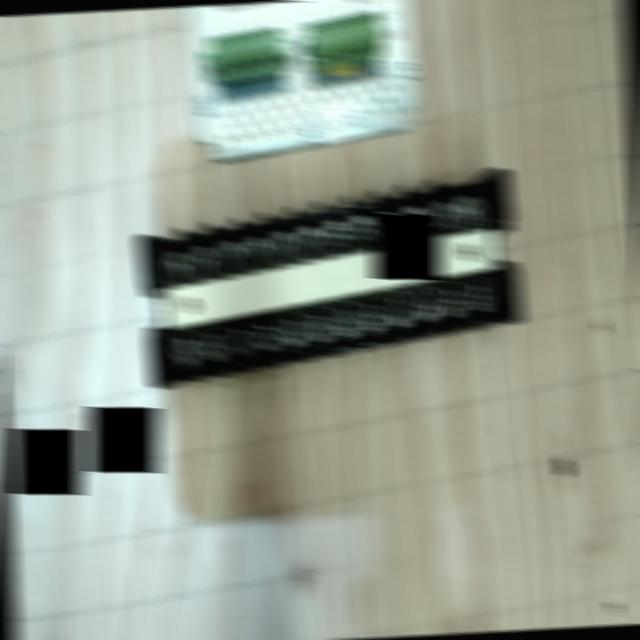Flathead_Block: (124, 169, 536, 387)
Terminal_1: (299, 10, 389, 71), (204, 26, 290, 84)
